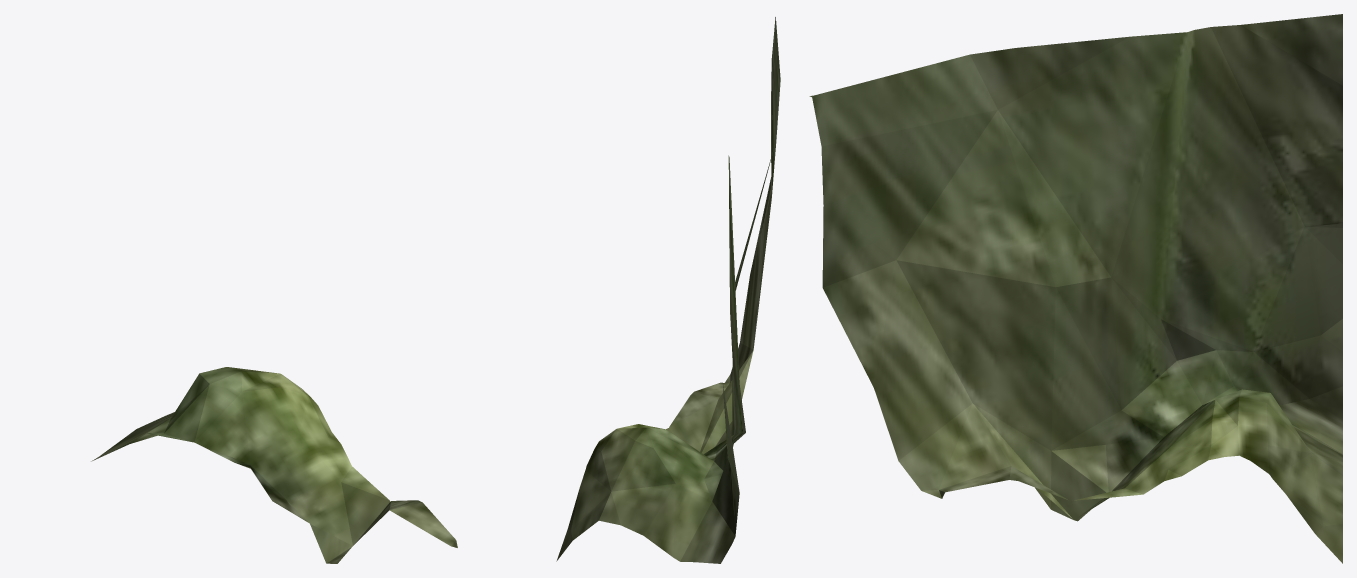
The picture shows the model from 3 angles, left to right: view 1: azimuth 30°, elevation 25°; view 2: azimuth 150°, elevation 25°; view 3: azimuth 270°, elevation 25°; orthographic projection. The views are drawn at different scales.
Size of the model in its own units: 0.7375 by 1.48 by 1.54.
1 material, 1 textured.
